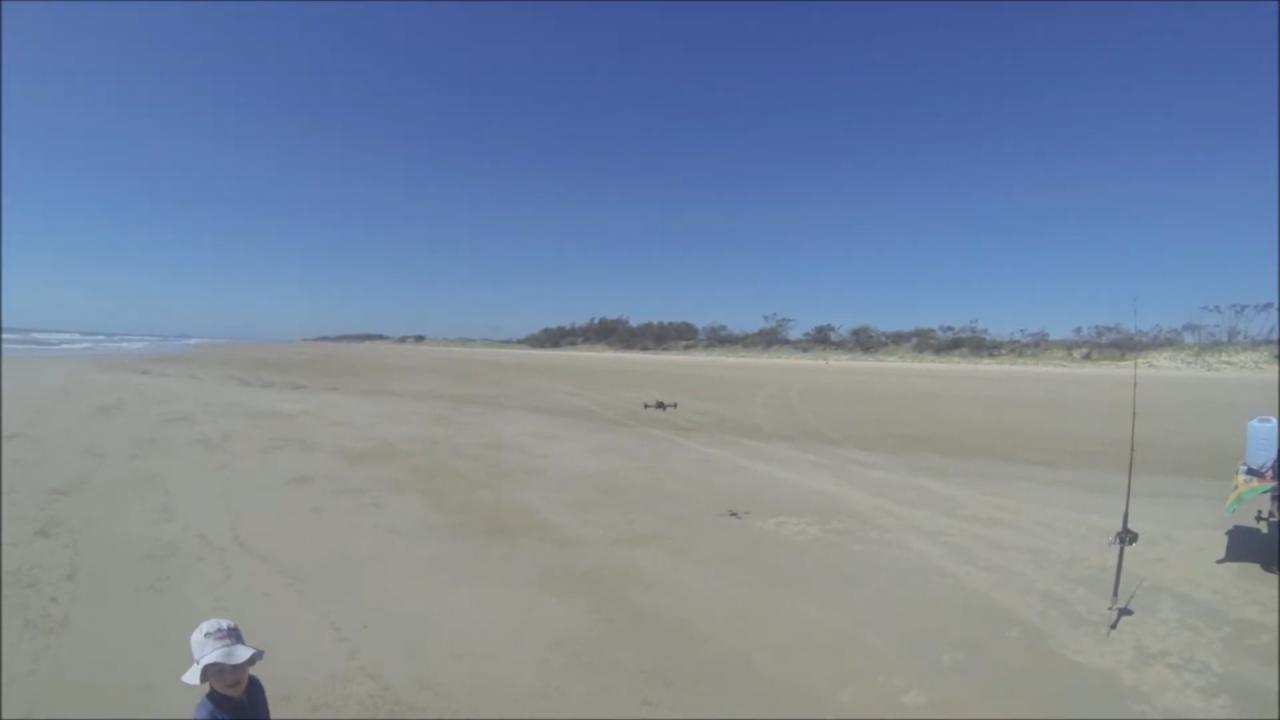Drone: (634, 393, 690, 418)
